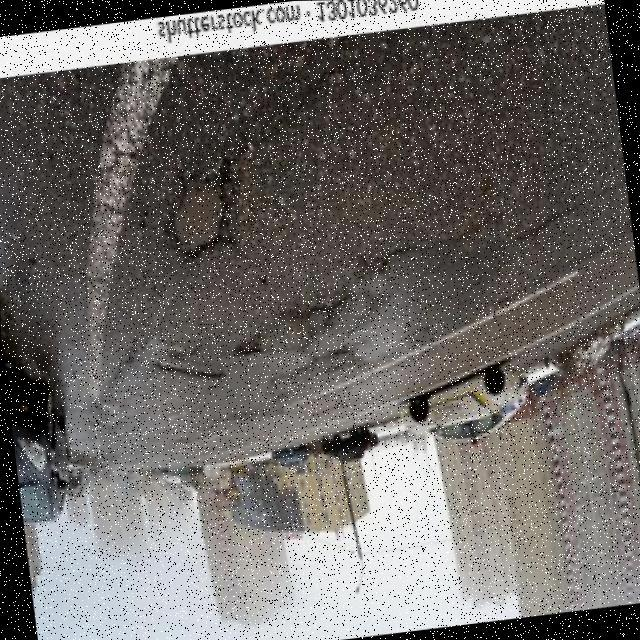Pothole: (167, 179, 230, 256), (167, 367, 225, 385)
